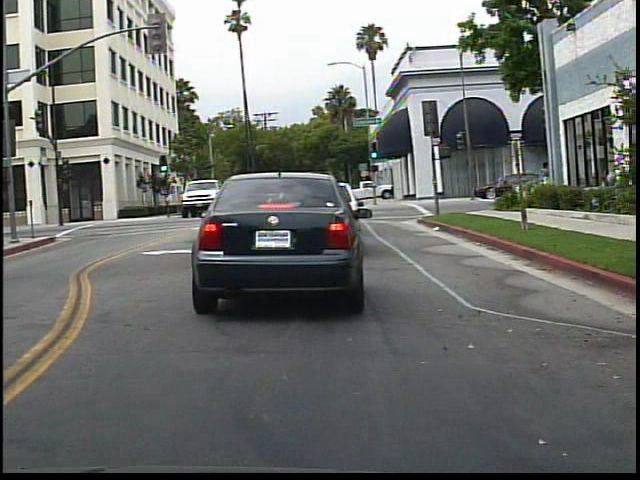person: (531, 157, 555, 205)
